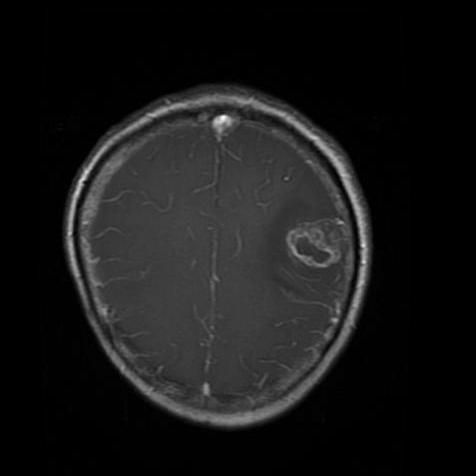Tumour-Glioma: (283, 214, 341, 278)
